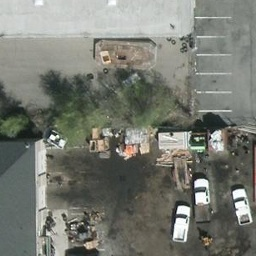car: (231, 187, 252, 226), (172, 205, 192, 241), (192, 178, 211, 206)
